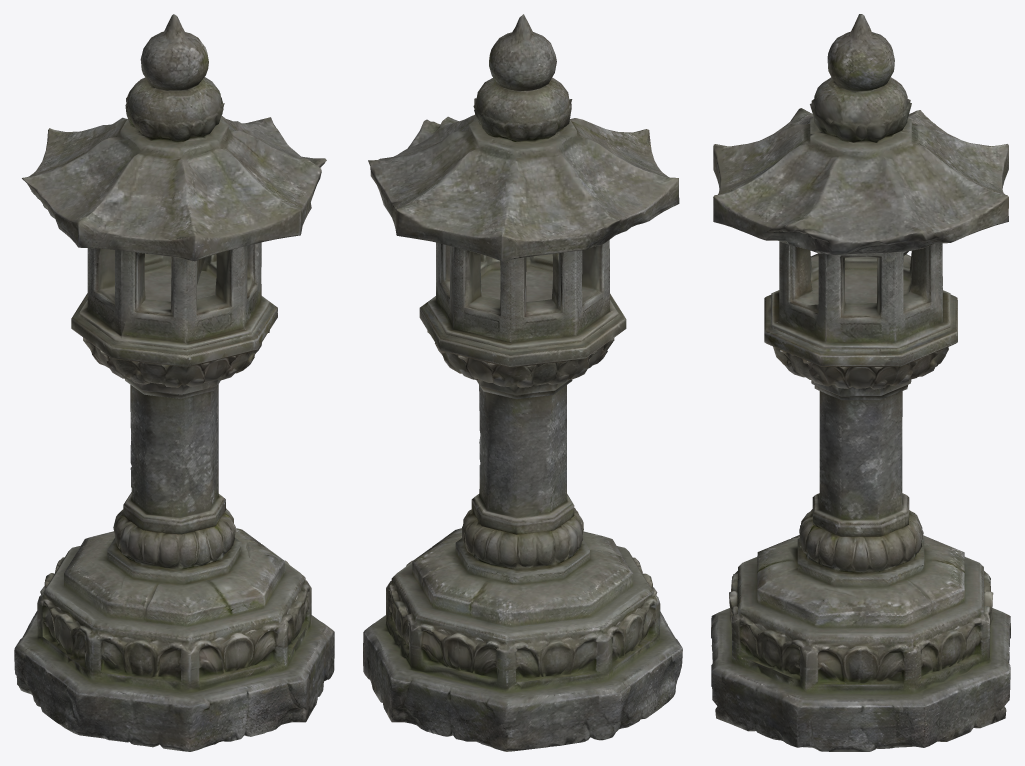
The model's file is t951_lantern.glb.
The picture shows the model from 3 angles, left to right: view 1: azimuth 30°, elevation 25°; view 2: azimuth 150°, elevation 25°; view 3: azimuth 270°, elevation 25°; orthographic projection.
Visible parts, largest first — view 1: tripo_node_510bd8eb-9409-4d5b-bba3-d4ea7815f21e; view 2: tripo_node_510bd8eb-9409-4d5b-bba3-d4ea7815f21e; view 3: tripo_node_510bd8eb-9409-4d5b-bba3-d4ea7815f21e.
Boxes of the visible parts, x1,y1,x2,y2 form: tripo_node_510bd8eb-9409-4d5b-bba3-d4ea7815f21e: [14, 14, 334, 751]; tripo_node_510bd8eb-9409-4d5b-bba3-d4ea7815f21e: [363, 14, 682, 751]; tripo_node_510bd8eb-9409-4d5b-bba3-d4ea7815f21e: [711, 14, 1010, 751].
Bounding box in the file's own units: 0.3953 × 0.9831 × 0.3952.
Materials: 1 (1 with a texture image).
